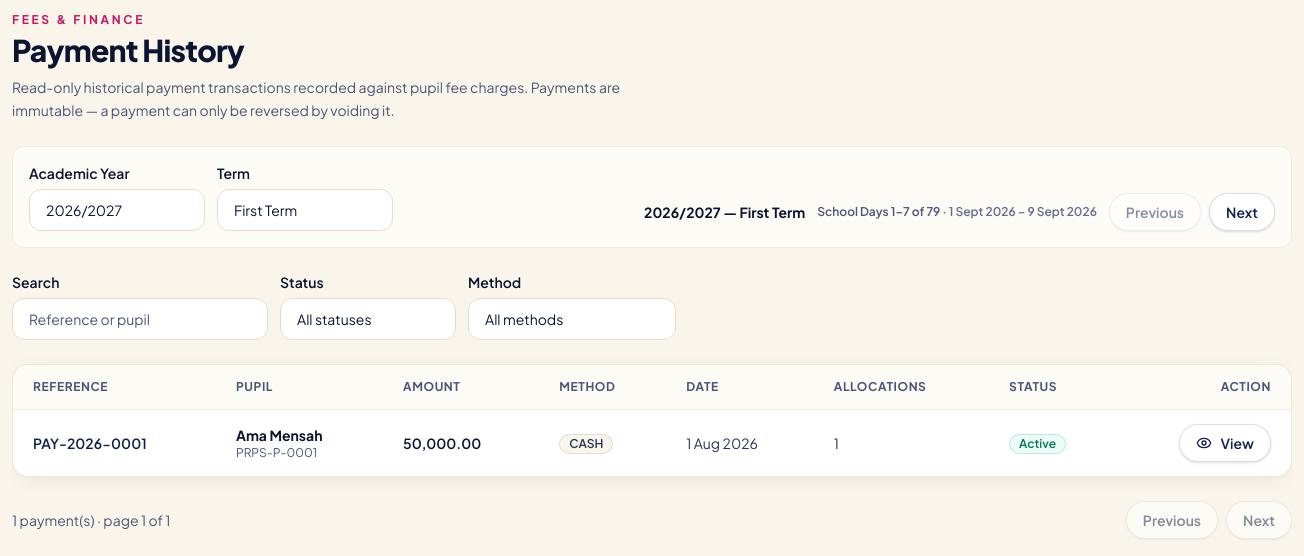
PaymentsPage › filters history to the selected term range
Step 1. Select "Second Term" in the dropdown labelled "Term" → (305, 210), box [217,188,393,230]
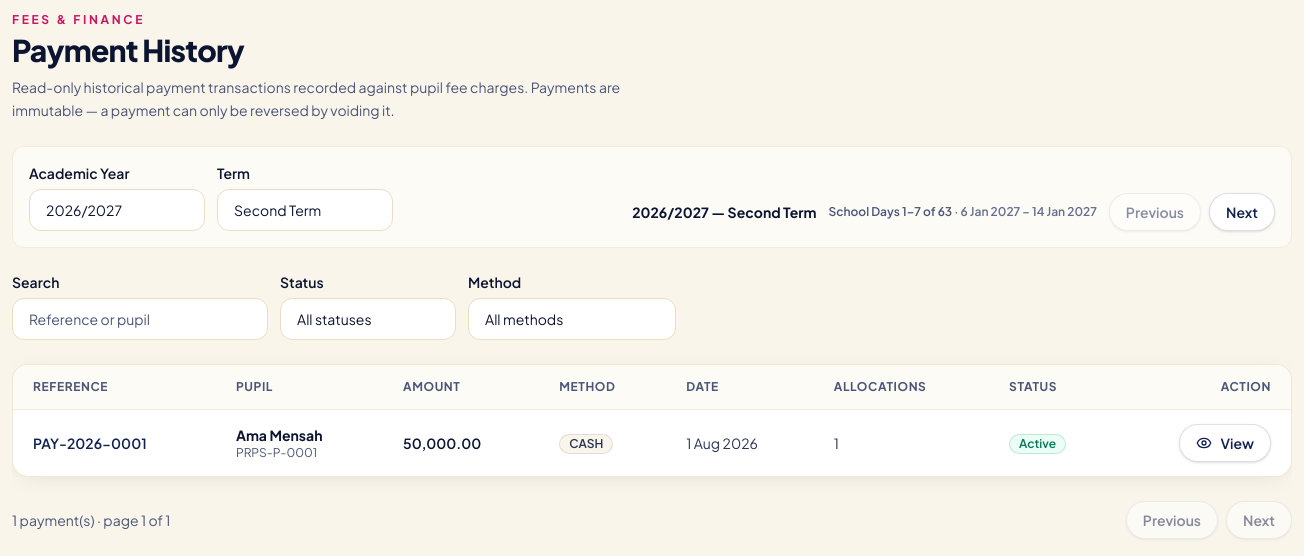
Expected: the text "2026/2027 — Second Term" is shown, [632,202,816,222]
Expected: the text "School Days 1–7 of 63 · 6 Jan 2027 – 14 Jan 2027" is shown, [828,204,1097,220]
